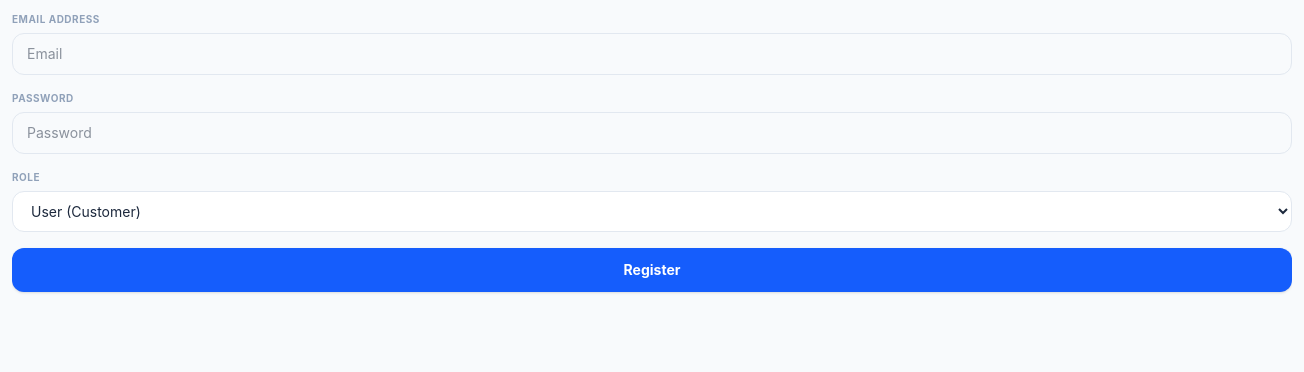
Test: RegisterForm Component › should show validation error when submitted with empty fields
Click the button "Register" at point(652, 270), box x1=12 y1=248 x2=1292 y2=292
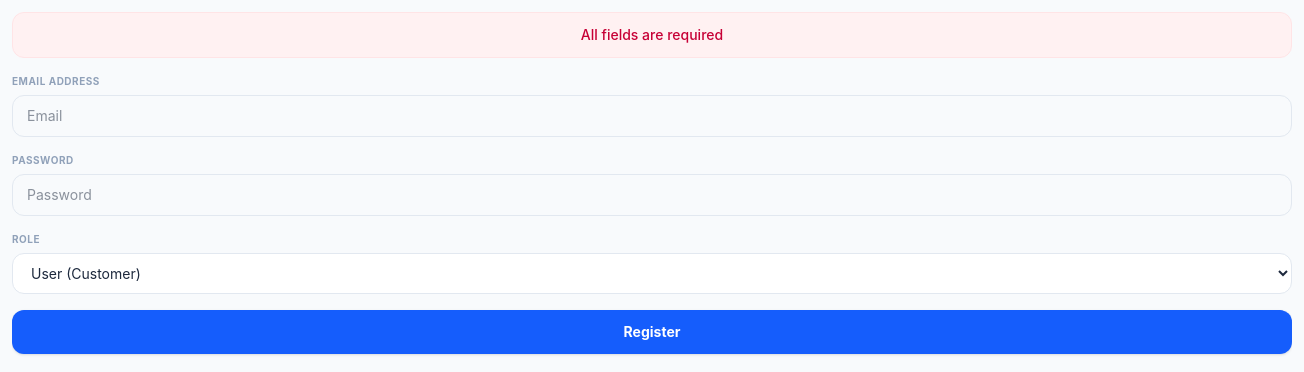
Now the text "All fields are required" is shown, box x1=12 y1=12 x2=1292 y2=58
